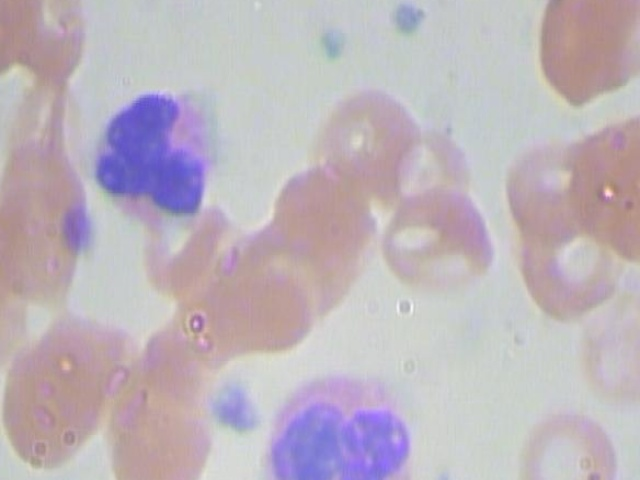Platelets: (201, 377, 266, 438), (313, 16, 357, 73), (58, 199, 101, 257), (385, 0, 429, 47)
RBC: (370, 174, 502, 310), (28, 297, 144, 428), (301, 75, 417, 205), (267, 152, 383, 282), (212, 222, 328, 352), (509, 209, 630, 327), (498, 124, 619, 242), (0, 346, 105, 477), (522, 0, 640, 114), (105, 379, 221, 480), (546, 295, 640, 409), (507, 397, 631, 480), (383, 128, 479, 231), (0, 0, 101, 82), (0, 198, 42, 364), (0, 0, 39, 86), (0, 0, 94, 4)
WBC: (76, 62, 235, 236), (252, 354, 418, 480)
